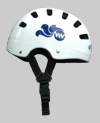helmet: (9, 8, 93, 62)
